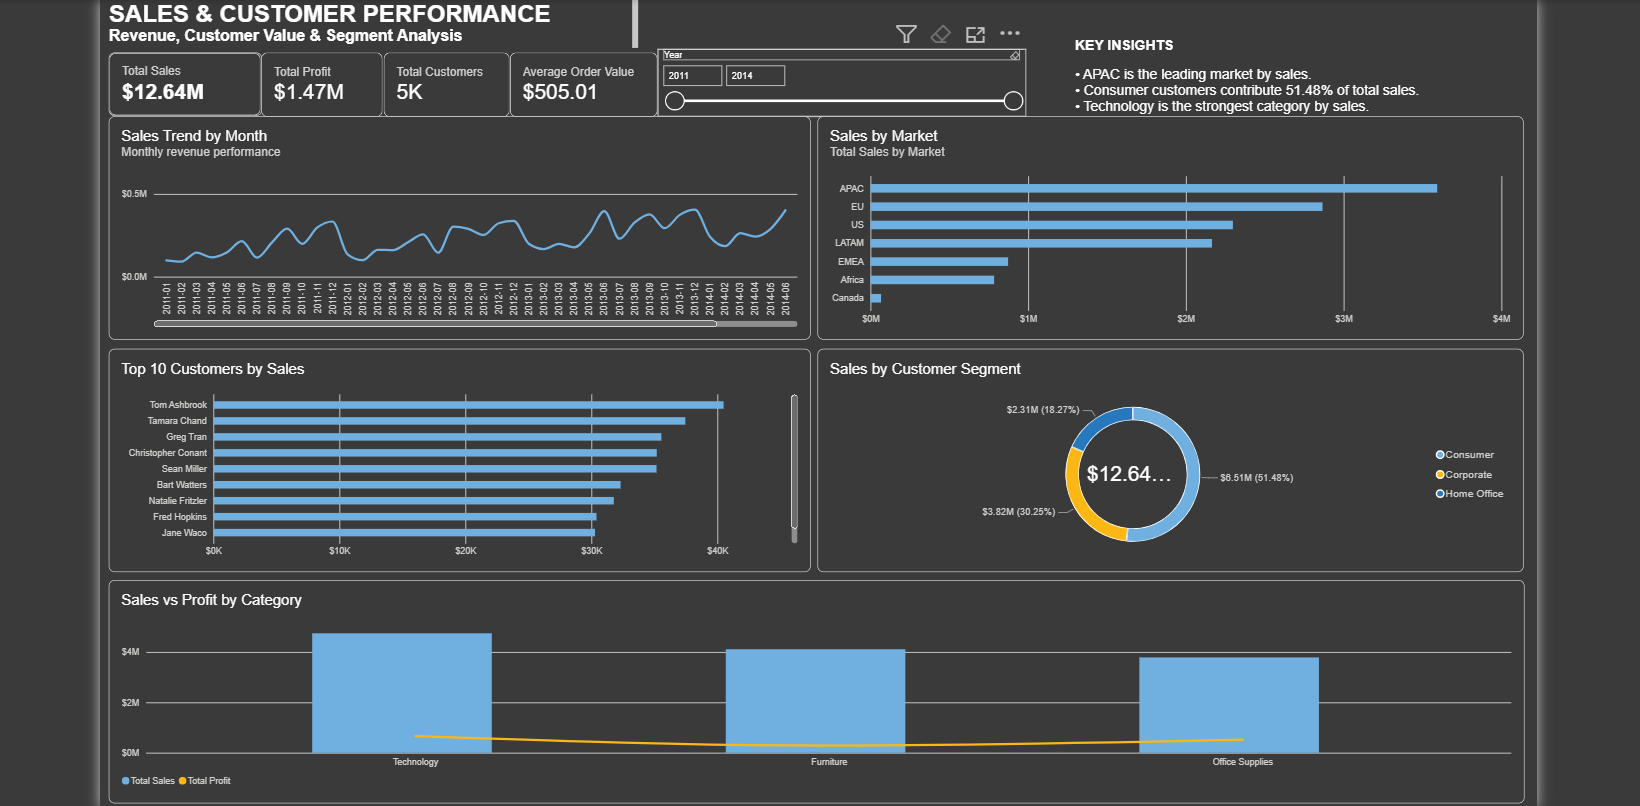

What the dashboard file says about the page in this screenshot:
{"tool":"powerbi","page":{"name":"Sales & Customer Performance","canvas":[1920,1080],"ordinal":1},"visuals":[{"type":"textbox","box":[10.9,0,707.6,70.6],"z":0},{"type":"cardVisual","fields":{"Data":["_Measures.Total Sales"]},"box":[10.9,70.6,204.5,85.1],"z":1},{"type":"cardVisual","fields":{"Data":["_Measures.Total Profit"]},"box":[216.1,70,162.6,86.4],"z":2},{"type":"cardVisual","fields":{"Data":["_Measures.Total Customers"]},"box":[378.7,70,168.8,86.4],"z":3},{"type":"cardVisual","fields":{"Data":["_Measures.Average Order Value"]},"box":[547.5,70,197.6,86.4],"z":4},{"type":"slicer","title":"Year","fields":{"Values":["DimDate.Year"]},"box":[745.1,65.9,491.9,90.6],"z":5},{"type":"lineChart","title":"Sales Trend by Month","fields":{"Category":["DimDate.Year Month"],"Y":["_Measures.Total Sales"]},"box":[10.9,155.6,937.4,298.6],"z":6},{"type":"clusteredBarChart","title":"Sales by Market","fields":{"Category":["DimGeography.Market"],"Y":["_Measures.Total Sales"]},"box":[959.1,155.6,942.8,298.6],"z":7},{"type":"clusteredBarChart","title":"Top 10 Customers by Sales","fields":{"Category":["DimCustomer.Customer.Name"],"Y":["_Measures.Total Sales"]},"box":[10.9,465.1,937.4,298.6],"z":8},{"type":"donutChart","title":"Sales by Customer Segment","fields":{"Category":["DimCustomer.Segment"],"Y":["_Measures.Total Sales"]},"box":[959.1,465.1,942.8,298.6],"z":9},{"type":"lineClusteredColumnComboChart","title":"Sales vs Profit by Category","fields":{"Category":["DimProduct.Category"],"Y":["_Measures.Total Sales"],"Y2":["_Measures.Total Profit"]},"box":[10.9,774.5,1891.1,298.6],"z":10},{"type":"textbox","box":[1302.9,49.4,599,349.9],"z":11}]}

Visuals, with their boxes on the page's 1920x1080 design canvas (x1, y1, x2, y2). These are canvas units, not pixel positions in the 1640x806 screenshot, which may show the page scaled, cropped or inside an application window:
textbox: pyautogui.locateOnScreen(11, 0, 718, 71)
cardVisual - _Measures.Total Sales: pyautogui.locateOnScreen(11, 71, 215, 156)
cardVisual - _Measures.Total Profit: pyautogui.locateOnScreen(216, 70, 379, 156)
cardVisual - _Measures.Total Customers: pyautogui.locateOnScreen(379, 70, 548, 156)
cardVisual - _Measures.Average Order Value: pyautogui.locateOnScreen(548, 70, 745, 156)
"Year" slicer: pyautogui.locateOnScreen(745, 66, 1237, 156)
"Sales Trend by Month" lineChart: pyautogui.locateOnScreen(11, 156, 948, 454)
"Sales by Market" clusteredBarChart: pyautogui.locateOnScreen(959, 156, 1902, 454)
"Top 10 Customers by Sales" clusteredBarChart: pyautogui.locateOnScreen(11, 465, 948, 764)
"Sales by Customer Segment" donutChart: pyautogui.locateOnScreen(959, 465, 1902, 764)
"Sales vs Profit by Category" lineClusteredColumnComboChart: pyautogui.locateOnScreen(11, 774, 1902, 1073)
textbox: pyautogui.locateOnScreen(1303, 49, 1902, 399)
